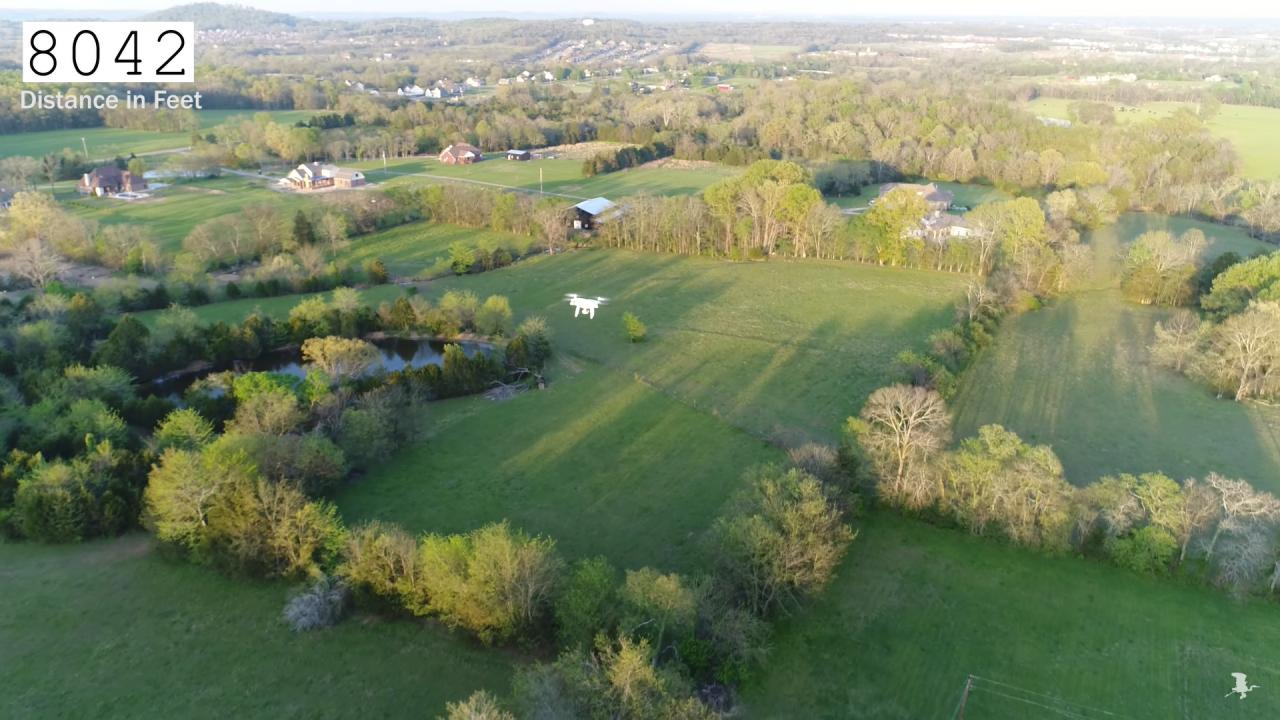Drone: (552, 284, 615, 327)
